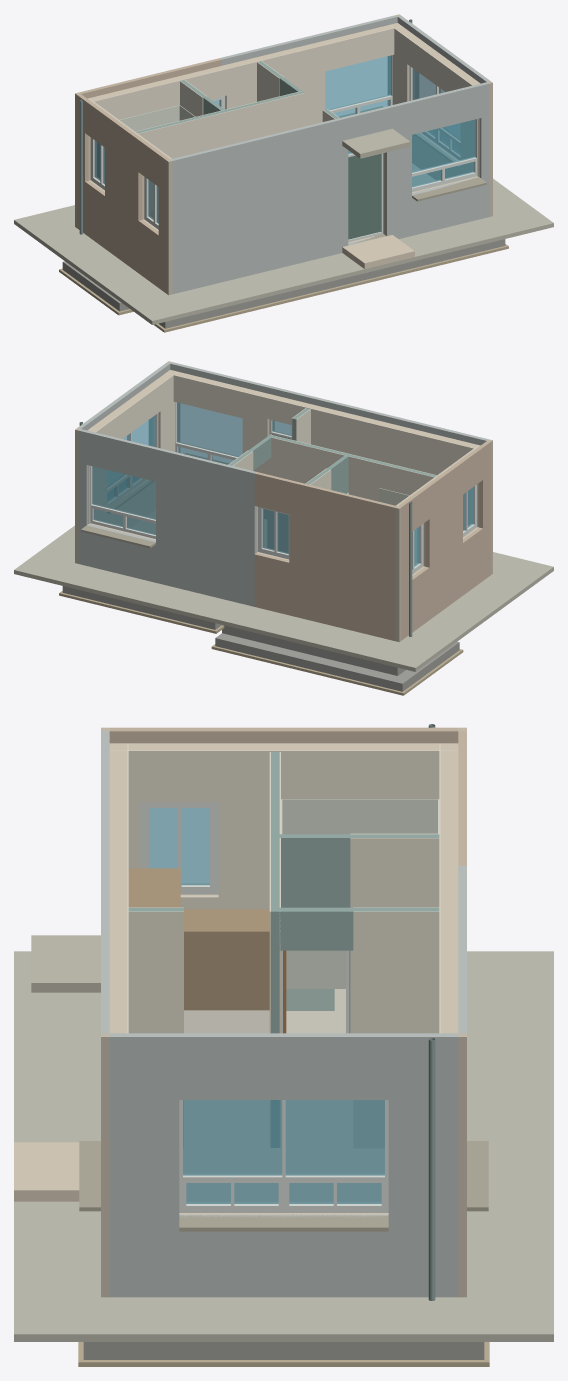
File: guardhouse-open.glb
3 views of the same model, one above another, from view 1: azimuth 30°, elevation 25°; view 2: azimuth 150°, elevation 25°; view 3: azimuth 270°, elevation 25° (orthographic). The views are drawn at different scales.
Visible parts, largest first — view 1: 외벽 마감 (×17), 외부 포장 폭 1000, 실내 벽 마감 (×8), 창문 (×3), 칸막이 마감 (×3), 창호 프레임 (×5), 출입문, 줄기초 800×300, 출입구 단차, 버림콘크리트 60, 외벽 모서리 마감 (×2), 출입구 캐노피 (+7 smaller); view 2: 외벽 마감 (×17), 외부 포장 폭 1000, 실내 벽 마감 (×8), 창문 (×4), 칸막이 마감 (×2), 창호 프레임 (×6), PIT 매트 기초, 외벽 모서리 마감 (×2), PIT 벽 200, PIT 버림콘크리트, 줄기초 800×300, 외벽 (+7 smaller); view 3: 외부 포장 폭 1000, 외벽 마감 (×10), 칸막이 마감 (×3), 창문 (×2), 실내 벽 마감 (×4), 실내 바닥 마감, 택배 보관장 측면, 창호 프레임 (×2), 외벽 (×4), 화장실 타일 마감, 줄기초 800×300 (×2), 외부 창대석 T50×W350 (×3) (+12 smaller).
Boxes of the visible parts, left/top/right/bottom form: 외벽 마감 (×17): left=77, top=17, right=489, bottom=294; 외부 포장 폭 1000: left=14, top=178, right=553, bottom=324; 실내 벽 마감 (×8): left=92, top=25, right=479, bottom=179; 창문 (×3): left=325, top=55, right=475, bottom=187; 칸막이 마감 (×3): left=138, top=62, right=304, bottom=210; 창호 프레임 (×5): left=90, top=55, right=477, bottom=229; 출입문: left=348, top=154, right=380, bottom=239; 줄기초 800×300: left=159, top=239, right=505, bottom=328; 출입구 단차: left=342, top=235, right=414, bottom=268; 버림콘크리트 60: left=154, top=244, right=508, bottom=332; 외벽 모서리 마감 (×2): left=166, top=81, right=492, bottom=295; 출입구 캐노피: left=342, top=128, right=410, bottom=158; 외벽 마감 (×17): left=78, top=364, right=490, bottom=641; 외부 포장 폭 1000: left=14, top=525, right=553, bottom=671; 실내 벽 마감 (×8): left=88, top=372, right=475, bottom=527; 창문 (×4): left=92, top=402, right=288, bottom=553; 칸막이 마감 (×2): left=267, top=409, right=434, bottom=552; 창호 프레임 (×6): left=90, top=402, right=477, bottom=574; PIT 매트 기초: left=215, top=633, right=459, bottom=691; 외벽 모서리 마감 (×2): left=75, top=428, right=401, bottom=642; PIT 벽 200: left=229, top=627, right=389, bottom=673; PIT 버림콘크리트: left=211, top=644, right=463, bottom=695; 줄기초 800×300: left=93, top=593, right=221, bottom=629; 외벽: left=307, top=404, right=477, bottom=447; 외부 포장 폭 1000: left=14, top=951, right=553, bottom=1341; 외벽 마감 (×10): left=101, top=727, right=466, bottom=1297; 칸막이 마감 (×3): left=128, top=838, right=439, bottom=1147; 창문 (×2): left=149, top=808, right=384, bottom=1203; 실내 벽 마감 (×4): left=110, top=750, right=427, bottom=909; 실내 바닥 마감: left=183, top=1010, right=384, bottom=1201; 택배 보관장 측면: left=184, top=909, right=269, bottom=1010; 창호 프레임 (×2): left=140, top=802, right=388, bottom=1212; 외벽 (×4): left=109, top=743, right=458, bottom=971; 화장실 타일 마감: left=282, top=799, right=437, bottom=988; 줄기초 800×300 (×2): left=83, top=1342, right=484, bottom=1359; 외부 창대석 T50×W350 (×3): left=79, top=1141, right=488, bottom=1231.
Size of the model in its own units: 10.4 by 4.46 by 6.2.
